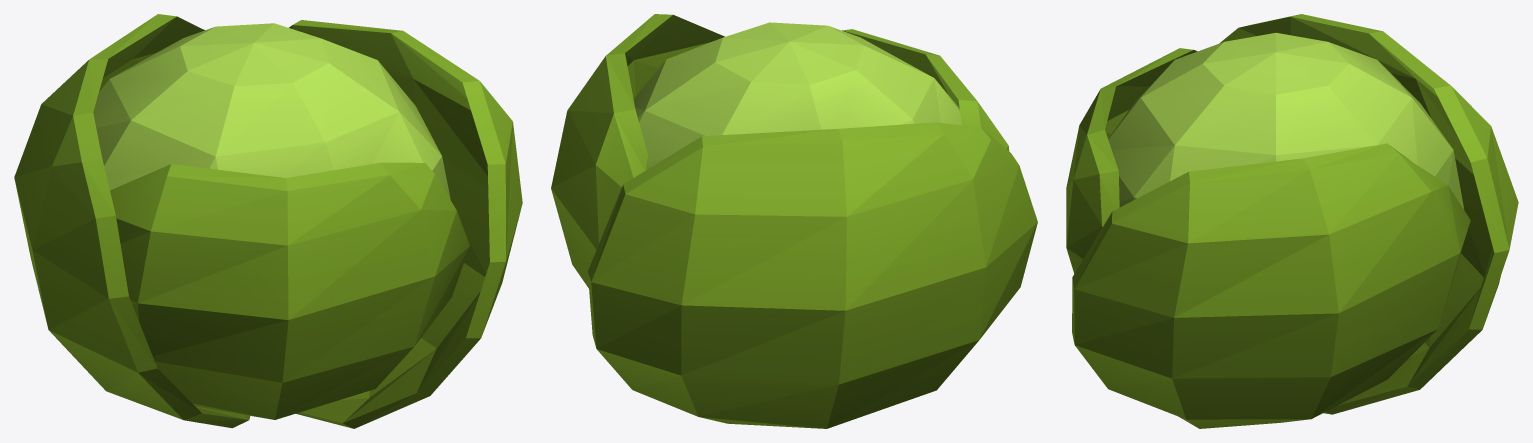
File: crop_cabbage_stage3.glb
3 views of the same model, side by side, from view 1: azimuth 30°, elevation 25°; view 2: azimuth 150°, elevation 25°; view 3: azimuth 270°, elevation 25° (orthographic). The views are drawn at different scales.
Visible parts, largest first — view 1: crop_cabbage_stage3; view 2: crop_cabbage_stage3; view 3: crop_cabbage_stage3.
Part boxes in pixels (box(x1,y1,x2,y2)): crop_cabbage_stage3: box(14, 14, 522, 428); crop_cabbage_stage3: box(551, 14, 1037, 428); crop_cabbage_stage3: box(1066, 14, 1518, 428).
Size of the model in its own units: 0.3914 by 0.32 by 0.3788.
Materials: 1 (1 with a texture image).
